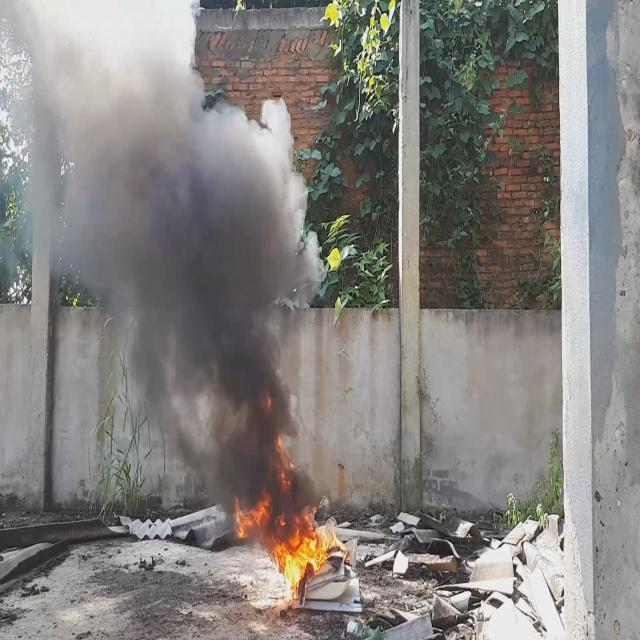Fire: (232, 488, 338, 602)
Smoke: (0, 0, 328, 526)
